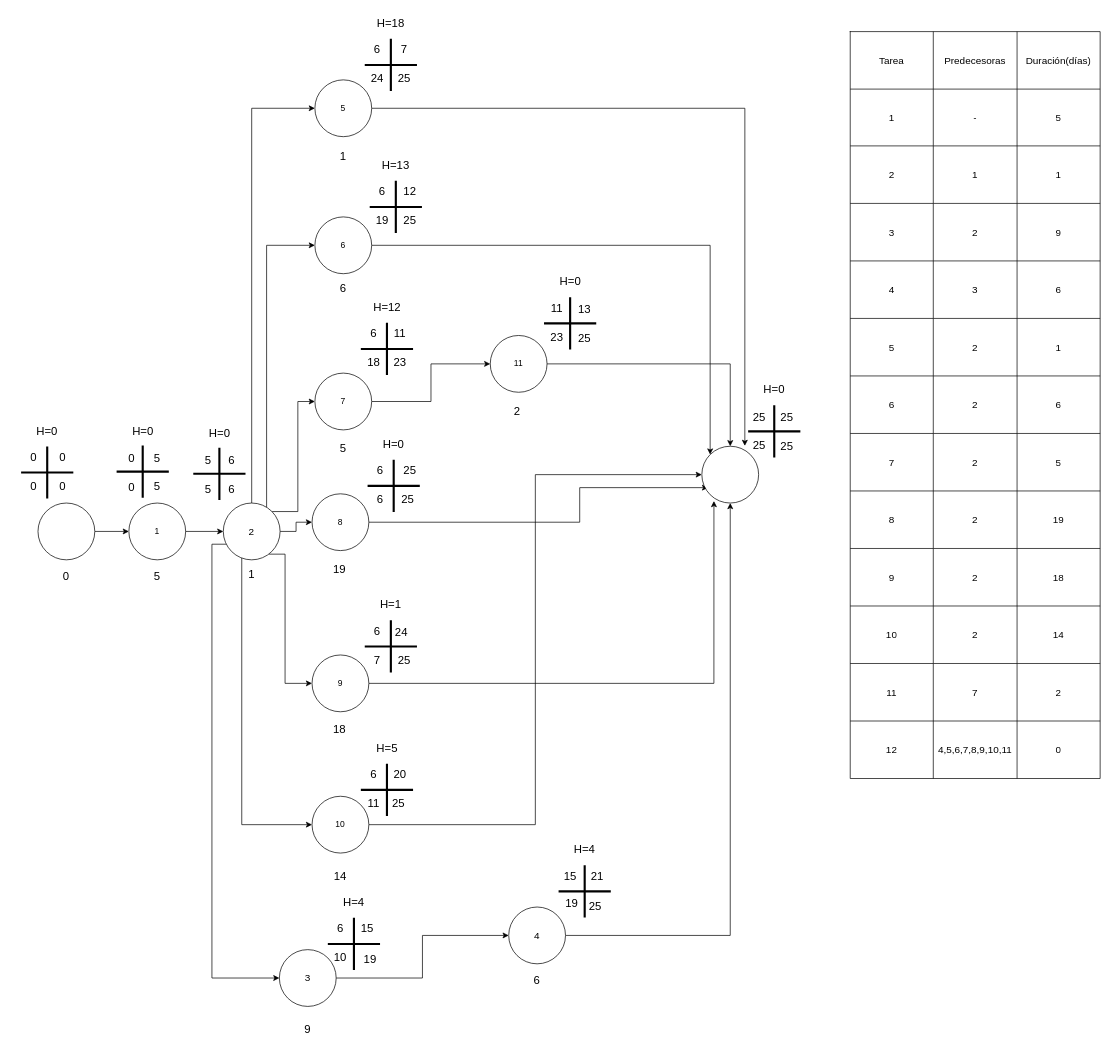
This 1113x1052 diagram has some shape labels left out. Each missing label, with the centre of its shape:
"FIN" goes at point 730,474.
"INICIO" goes at point 66,531.
